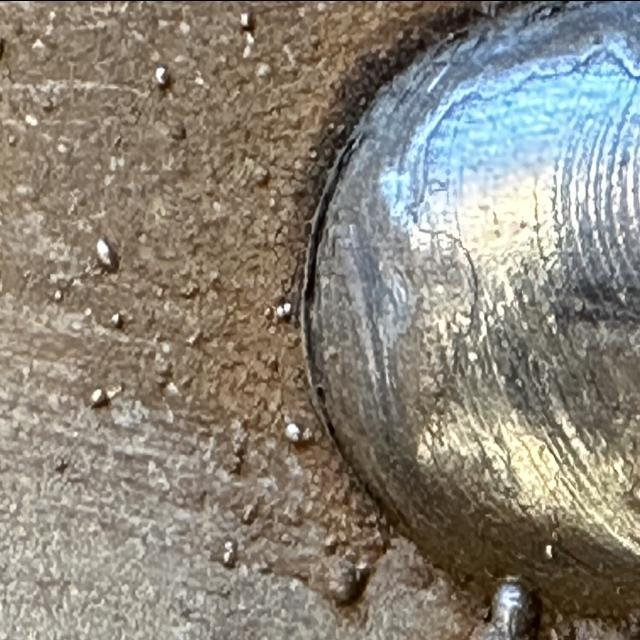Spatters: (471, 578, 538, 640), (328, 553, 371, 605), (96, 237, 119, 272), (221, 538, 238, 568), (90, 388, 109, 406), (155, 65, 170, 87), (285, 422, 301, 442), (240, 10, 254, 32), (275, 300, 291, 317), (110, 312, 124, 328), (54, 288, 64, 300)
